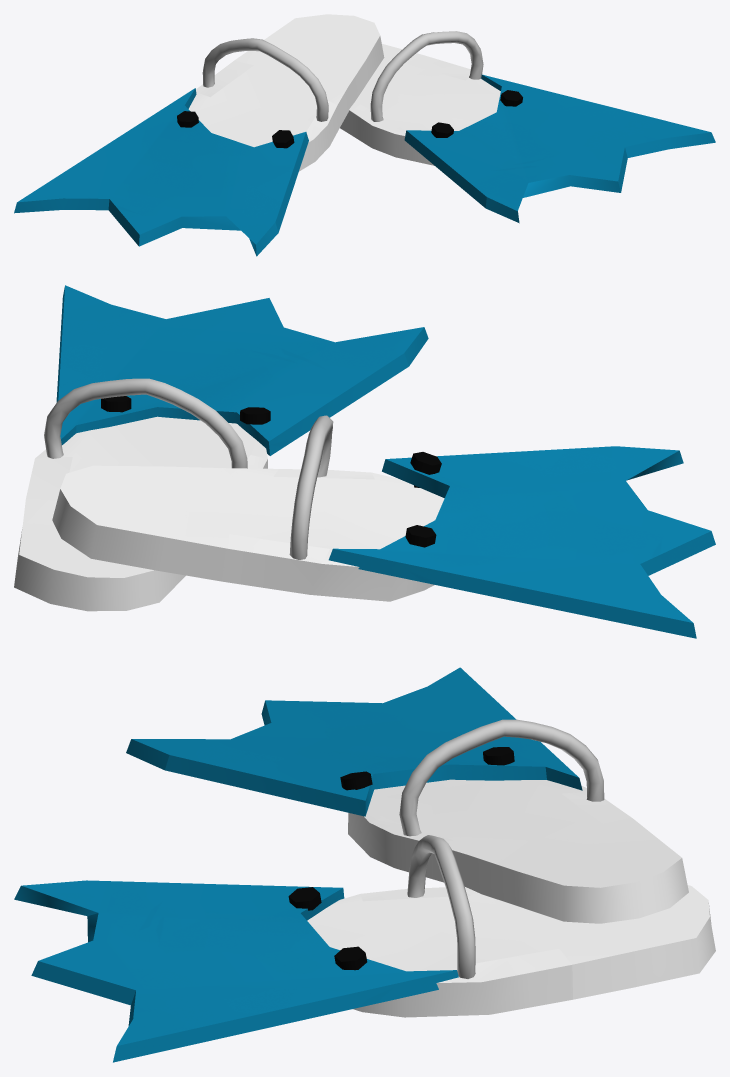
Rendered from FlipperObject.fbx.
The picture shows the model from 3 angles, top to bottom: view 1: azimuth 30°, elevation 25°; view 2: azimuth 150°, elevation 25°; view 3: azimuth 270°, elevation 25°; orthographic projection. The views are drawn at different scales.
Visible parts, largest first — view 1: Male_Outfit_Farmer_Feet_comb_moved.001; view 2: Male_Outfit_Farmer_Feet_comb_moved.001; view 3: Male_Outfit_Farmer_Feet_comb_moved.001.
Part boxes in pixels (x1,y1,x2,y2): Male_Outfit_Farmer_Feet_comb_moved.001: (14, 14, 715, 256); Male_Outfit_Farmer_Feet_comb_moved.001: (14, 285, 715, 638); Male_Outfit_Farmer_Feet_comb_moved.001: (14, 667, 715, 1062).
Size of the model in its own units: 200 by 33.5 by 146.
